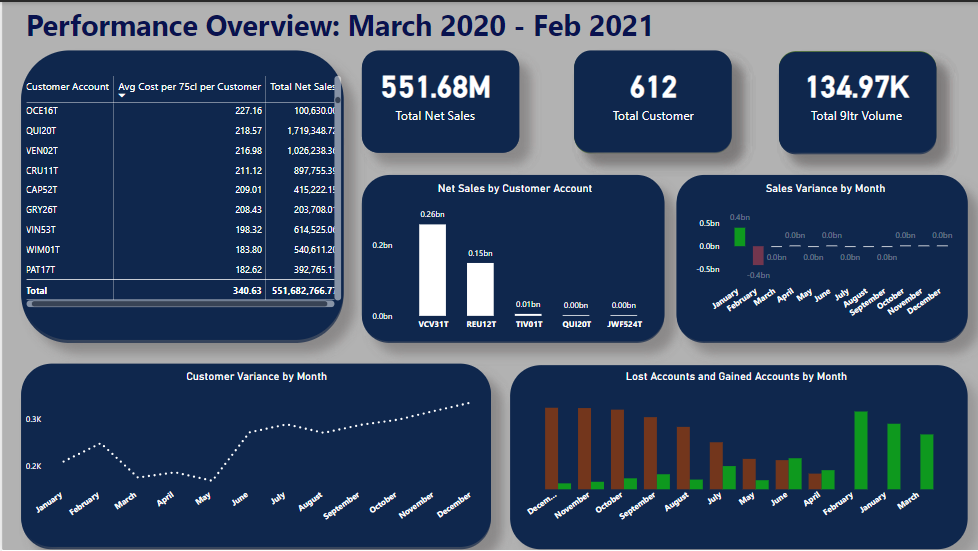

This screenshot's page, from the dashboard's own definition file:
{"tool":"powerbi","page":{"name":"Page 1","canvas":[1280,720],"ordinal":0},"visuals":[{"type":"card","fields":{"Values":["Net Sales KPI.Total Net Sales"]},"box":[483.7,121.7,174.4,90.5],"z":0},{"type":"clusteredColumnChart","fields":{"Y":["Net Sales KPI.Sales Variance by Month"],"Category":["Calendar.Date.Variation.Date Hierarchy.Month"]},"box":[890.4,274.8,364.4,186.6],"z":1000},{"type":"clusteredColumnChart","title":"Top 5 Customer Accounts by Net Sales","fields":{"Category":["Dataset.Customer Account"],"Y":["Net Sales KPI.Net Sales by Customer"]},"box":[479,274.8,385,204.2],"z":2000},{"type":"card","fields":{"Values":["Customers KPI.Total Customer Count"]},"box":[766.7,121.7,199.1,90.5],"z":3000},{"type":"lineChart","title":"Customer Variance by Month","fields":{"Y":["Customers KPI.Customer Variance by Month"],"Category":["Calendar.Date.Variation.Date Hierarchy.Month"]},"box":[26.4,512.8,614.2,207.2],"z":4000},{"type":"lineClusteredColumnComboChart","fields":{"Category":["Calendar.Month"],"Y":["Customers KPI.Lost Accounts","Customers KPI.Gained Accounts"]},"box":[681.8,512.8,573.1,207.2],"z":5000},{"type":"card","fields":{"Values":["Products Sold KPI.Total 9ltr Volume"]},"box":[1060.9,122,194,89.6],"z":6000},{"type":"tableEx","fields":{"Values":["Dataset.Customer Account","Products Sold KPI.Avg Cost per 75cl per Customer","Net Sales KPI.Total Net Sales"]},"box":[55.9,133.3,396.5,312.6],"z":7000},{"type":"slicer","fields":{"Values":["Calendar.Month"]},"box":[868.7,0,322.5,103.7],"z":8000},{"type":"slicer","fields":{"Values":["Calendar.Year"]},"box":[1174.7,0,105.3,103.7],"z":9000},{"type":"card","fields":{"Values":["Titles.DynamicTitle"]},"box":[26.2,24.8,852,55.1],"z":10000},{"type":"image","box":[1131.9,200.7,51,42.8],"z":10001},{"type":"image","box":[834.1,200.7,60.9,54.3],"z":10002},{"type":"image","box":[542.9,200.7,52.6,47.7],"z":10003}]}

Visuals, with their boxes in screenshot pixels (x1, y1, x2, y2), scaled from the page's 1280x720 canvas onto the 978x551 screenshot:
card - Net Sales KPI.Total Net Sales: (370, 93, 503, 162)
clusteredColumnChart - Net Sales KPI.Sales Variance by Month x Calendar.Date.Variation.Date Hierarchy.Month: (680, 210, 959, 353)
"Top 5 Customer Accounts by Net Sales" clusteredColumnChart: (366, 210, 660, 367)
card - Customers KPI.Total Customer Count: (586, 93, 738, 162)
"Customer Variance by Month" lineChart: (20, 392, 489, 550)
lineClusteredColumnComboChart - Calendar.Month x Customers KPI.Lost Accounts: (521, 392, 959, 550)
card - Products Sold KPI.Total 9ltr Volume: (811, 93, 959, 162)
tableEx - Dataset.Customer Account x Products Sold KPI.Avg Cost per 75cl per Customer: (43, 102, 346, 341)
slicer - Calendar.Month: (664, 0, 910, 79)
slicer - Calendar.Year: (898, 0, 977, 79)
card - Titles.DynamicTitle: (20, 19, 671, 61)
image: (865, 154, 904, 186)
image: (637, 154, 684, 195)
image: (415, 154, 455, 190)
